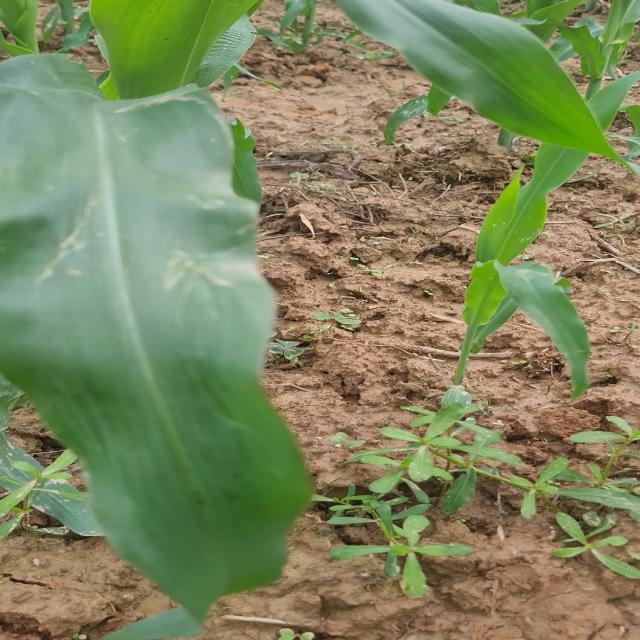maize: (0, 46, 324, 632), (346, 3, 640, 399)
weed: (310, 405, 534, 587), (475, 424, 640, 588), (299, 309, 394, 341), (272, 158, 334, 186), (261, 345, 339, 363)
